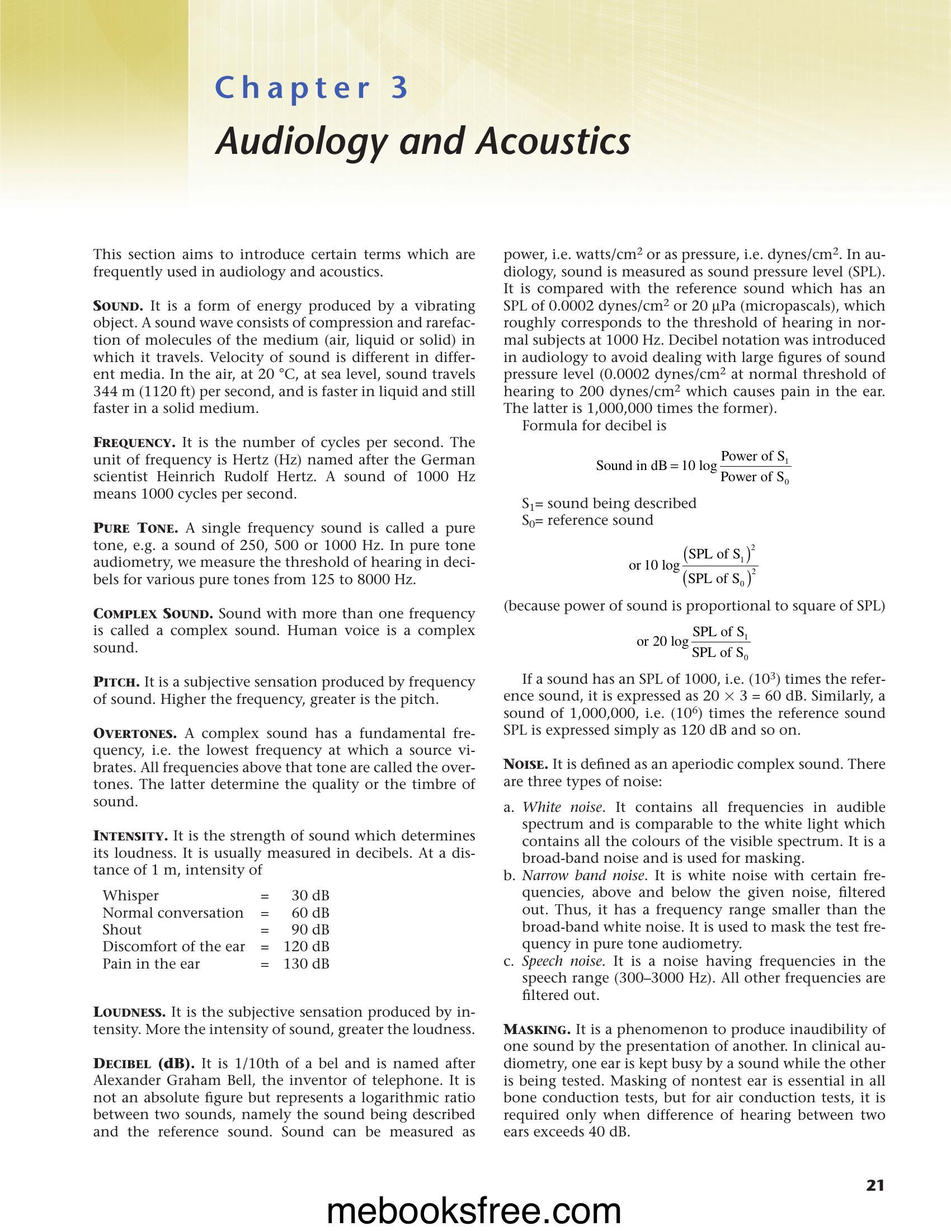chapter-heading: (212, 122, 632, 166)
list: (501, 798, 888, 1002), (101, 888, 331, 971)
text: (91, 246, 476, 880), (498, 245, 886, 793), (91, 1003, 477, 1139), (502, 1021, 888, 1140)
